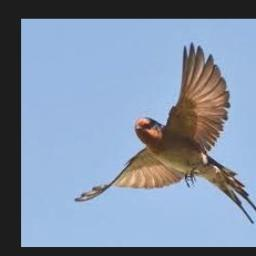Swallow: (73, 43, 256, 225)
